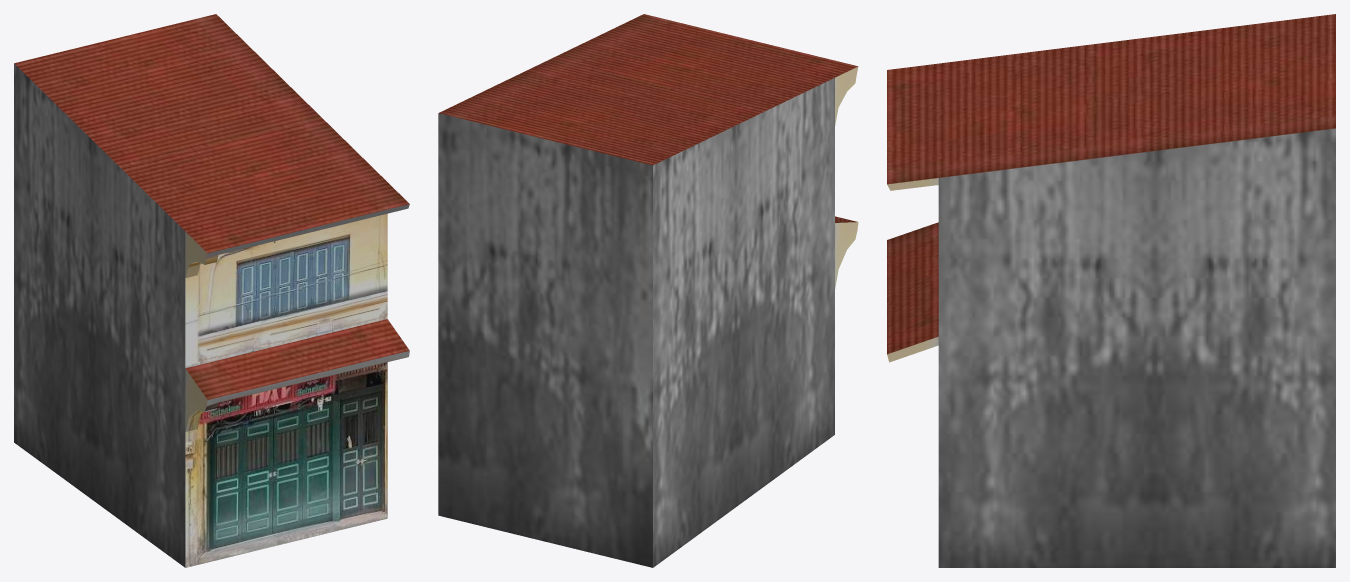
3 renders of one model, left to right at view 1: azimuth 30°, elevation 25°; view 2: azimuth 150°, elevation 25°; view 3: azimuth 270°, elevation 25°, orthographic. The views are drawn at different scales.
Parts seen in each view (by area): view 1: Hn917___Hay; view 2: Hn917___Hay; view 3: Hn917___Hay.
Boxes of the visible parts, <box> form: Hn917___Hay: <box>14,14,409,567</box>; Hn917___Hay: <box>438,14,858,567</box>; Hn917___Hay: <box>887,14,1335,567</box>.
Size of the model in its own units: 4.09 by 7.33 by 6.78.
1 material, 1 textured.
